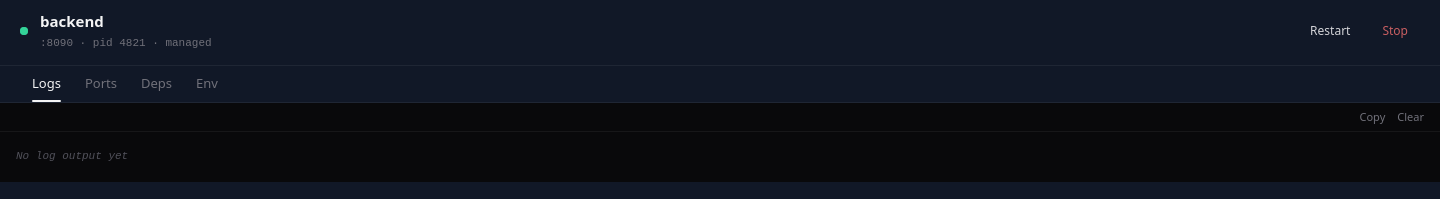
Test case: ComponentDetail › switches to the Ports tab when clicked
What coordinates should you click on to do the following:
click the tab "Ports"
I would click on:
 (101, 84)
Its box is [73,66,129,102].
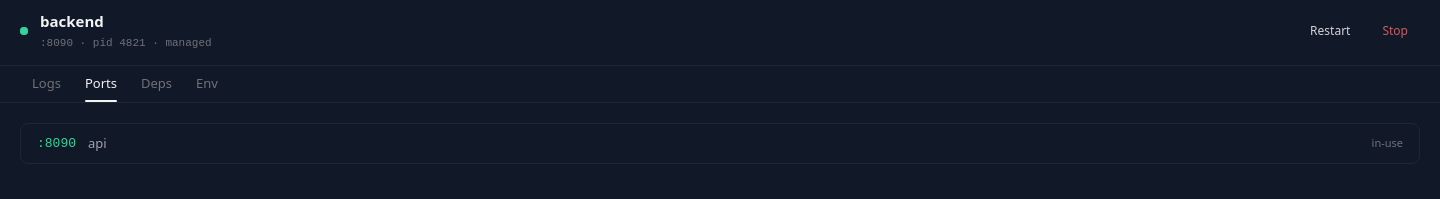
Now the text "api" is shown, box [88,134,107,153]
